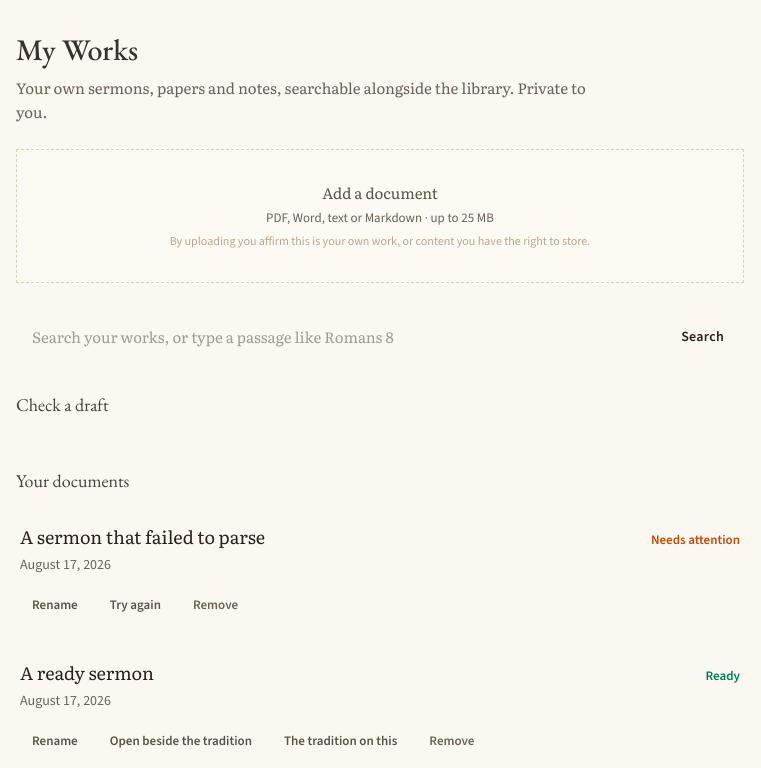
D16 — the server's sentences reach the screen › a network failure on remove is reported
Expected: the text "A ready sermon" is shown, [20,659,154,686]
Click the button "Remove" in the row of "Open beside the tradition".
click(452, 741)  # box [417,719,486,763]
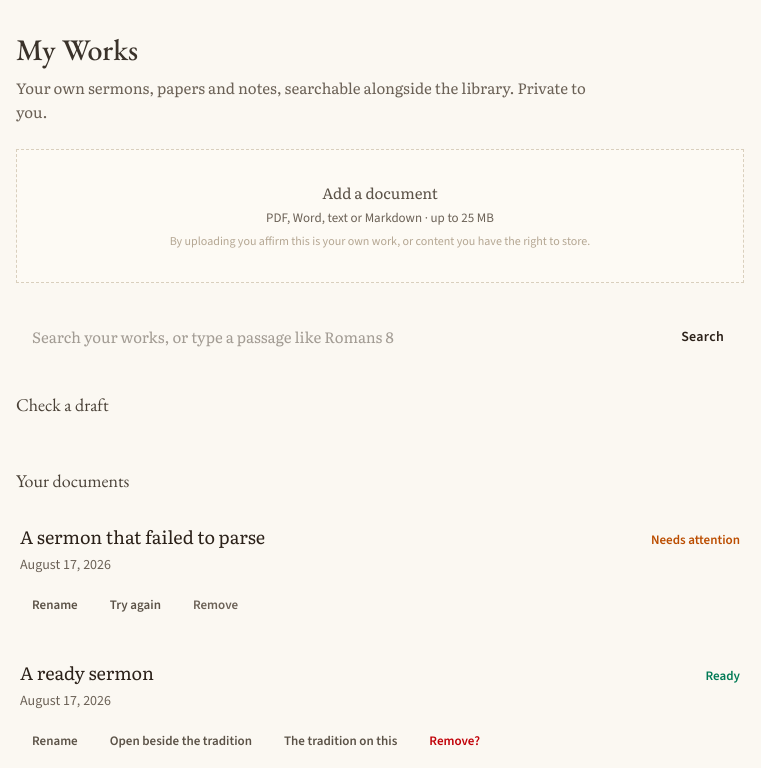
Click the button "Remove?".
click(455, 741)  # box [417,719,492,763]
(page scrolled)
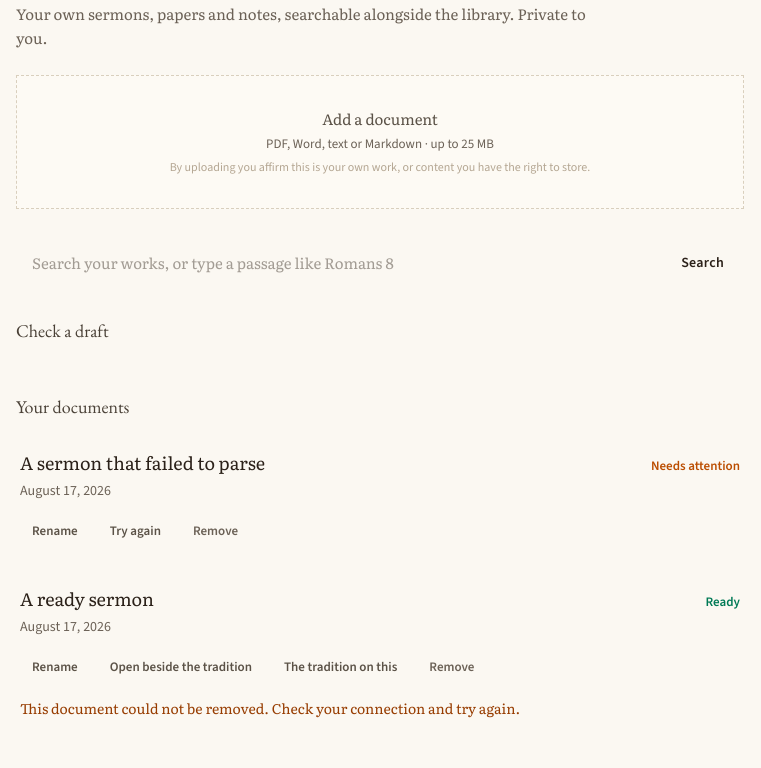
Now the text "This document could not be removed. Check your connection and try again." is shown, box [20,698,520,718]
